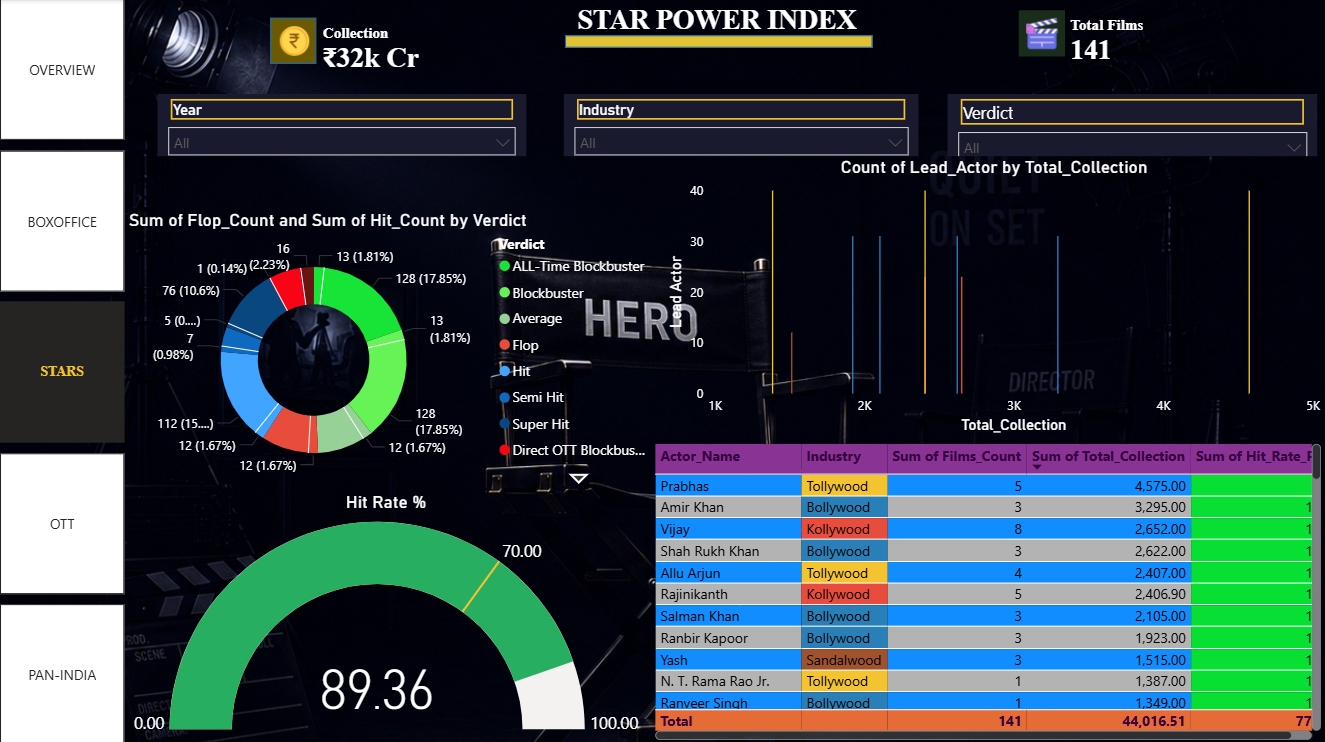

The page's visual inventory and layout, read from the dashboard file:
{"tool":"powerbi","page":{"name":"STARS","canvas":[1280,720],"ordinal":2},"visuals":[{"type":"shape","box":[983.2,10.9,44.6,44.6],"z":0,"group":"g1"},{"type":"columnChart","fields":{"Y":["CountNonNull(Movies.Lead_Actor)"],"Category":["Stars.Total_Collection"]},"box":[639.4,152,640.6,272.7],"z":0},{"type":"image","box":[990.4,18.1,30.2,30.2],"z":1000,"group":"g1"},{"type":"donutChart","fields":{"Category":["Movies.Verdict"],"Y":["Sum(Stars.Flop_Count)","Sum(Stars.Hit_Count)"]},"box":[119.4,202.7,520,272.7],"z":1000},{"type":"gauge","fields":{"Y":["Movies.Hit Rate %"]},"box":[119.4,475.3,506.7,244.9],"z":2000},{"type":"tableEx","fields":{"Values":["Stars.Actor_Name","Stars.Industry","Sum(Stars.Films_Count)","Sum(Stars.Total_Collection)","Sum(Stars.Hit_Rate_Pct)"]},"box":[626.1,424.7,653.9,295.6],"z":3000},{"type":"pageNavigator","box":[0,0,120,720.2],"z":4000},{"type":"textbox","box":[541.7,0,300.4,41],"z":5000},{"type":"shape","box":[545.3,35,296.8,12.1],"z":6000},{"type":"group","id":"g1","title":"Group 1","box":[983.2,10.9,44.6,44.6],"z":7000,"group":"g3"},{"type":"slicer","fields":{"Values":["Movies.Year"]},"box":[152,91.7,355.9,60.3],"z":7000},{"type":"textbox","box":[1027.8,10.9,141.2,59.1],"z":8000,"group":"g3"},{"type":"slicer","fields":{"Values":["Movies.Industry"]},"box":[544.1,91.7,342.6,60.3],"z":8000},{"type":"shape","box":[260.6,18.1,44.6,44.6],"z":9000,"group":"g4"},{"type":"textbox","box":[306.4,18.1,148,59.1],"z":9000,"group":"g2"},{"type":"slicer","fields":{"Values":["Movies.Verdict"]},"box":[914.5,91.7,357.1,60.3],"z":9000},{"type":"group","id":"g2","title":"Group 8","box":[260.6,18.1,194.2,59.1],"z":10000},{"type":"image","box":[269,25.3,30.2,30.2],"z":10000,"group":"g4"},{"type":"group","id":"g3","title":"Group 7","box":[983.2,10.9,185.8,59.1],"z":11000},{"type":"group","id":"g4","title":"Group 6","box":[260.6,18.1,44.6,44.6],"z":19000,"group":"g2"}]}

Visuals, with their boxes on the page's 1280x720 design canvas (x1, y1, x2, y2). These are canvas units, not pixel positions in the 1325x742 screenshot, which may show the page scaled, cropped or inside an application window:
shape: BBox(983, 11, 1028, 56)
columnChart - CountNonNull(Movies.Lead_Actor) x Stars.Total_Collection: BBox(639, 152, 1280, 425)
image: BBox(990, 18, 1021, 48)
donutChart - Movies.Verdict x Sum(Stars.Flop_Count): BBox(119, 203, 639, 475)
gauge - Movies.Hit Rate %: BBox(119, 475, 626, 720)
tableEx - Stars.Actor_Name x Stars.Industry: BBox(626, 425, 1280, 720)
pageNavigator: BBox(0, 0, 120, 720)
textbox: BBox(542, 0, 842, 41)
shape: BBox(545, 35, 842, 47)
"Group 1" group: BBox(983, 11, 1028, 56)
slicer - Movies.Year: BBox(152, 92, 508, 152)
textbox: BBox(1028, 11, 1169, 70)
slicer - Movies.Industry: BBox(544, 92, 887, 152)
shape: BBox(261, 18, 305, 63)
textbox: BBox(306, 18, 454, 77)
slicer - Movies.Verdict: BBox(914, 92, 1272, 152)
"Group 8" group: BBox(261, 18, 455, 77)
image: BBox(269, 25, 299, 56)
"Group 7" group: BBox(983, 11, 1169, 70)
"Group 6" group: BBox(261, 18, 305, 63)
